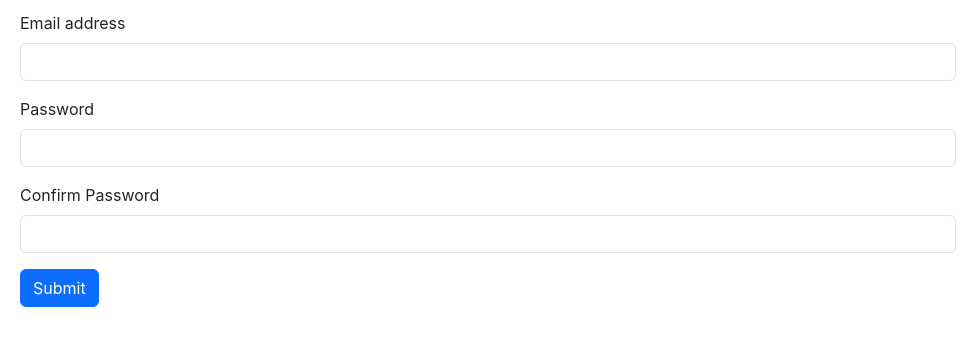
Test: test the app component › tests for error handling › should show No error message if every input is valid
The width and height of the screenshot is (977, 364).
In the field labelled "Email address": coordinates (488, 62) [20, 43, 956, 81], type "whateveremail@gmail.com"
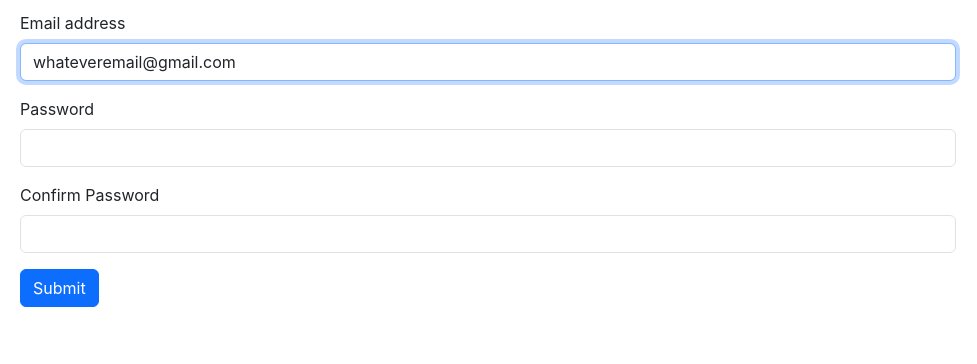
In the password field labelled "Password": coordinates (488, 148) [20, 129, 956, 167], type "12345"
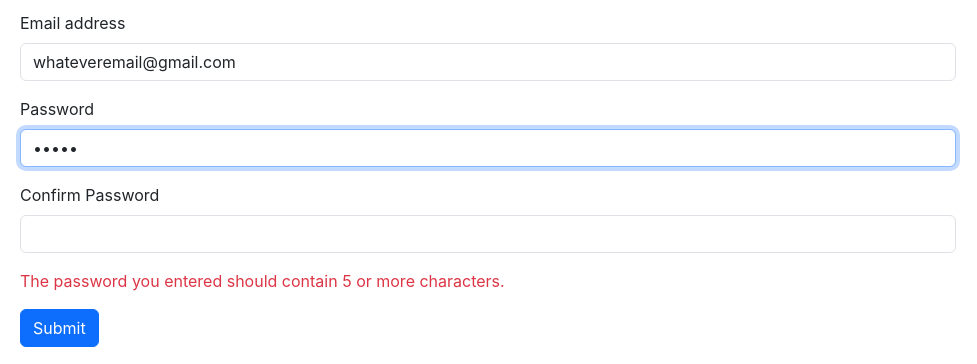
In the password field labelled "Confirm Password": coordinates (488, 234) [20, 215, 956, 253], type "12345"
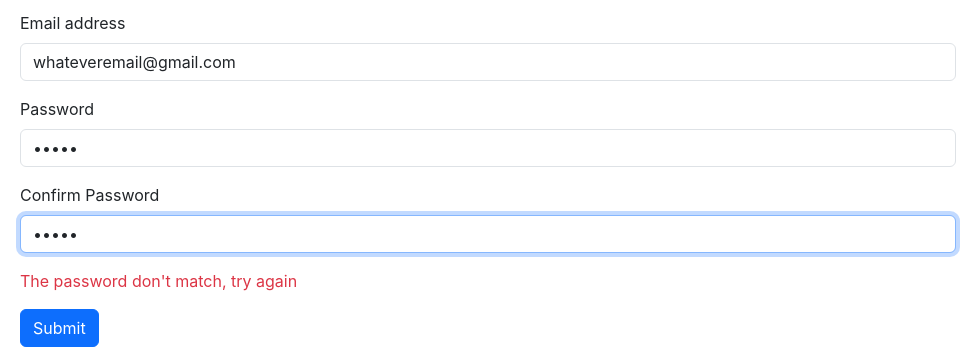
Click the button "Submit": coordinates (59, 328) [20, 309, 99, 347]
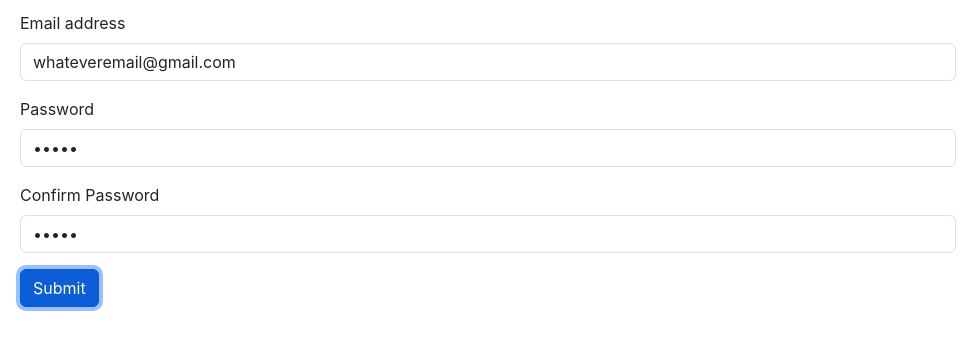
Expected: the text "The password you entered should contain 5 or more characters" is not shown
Expected: the text "The password don't match, try again" is gone
